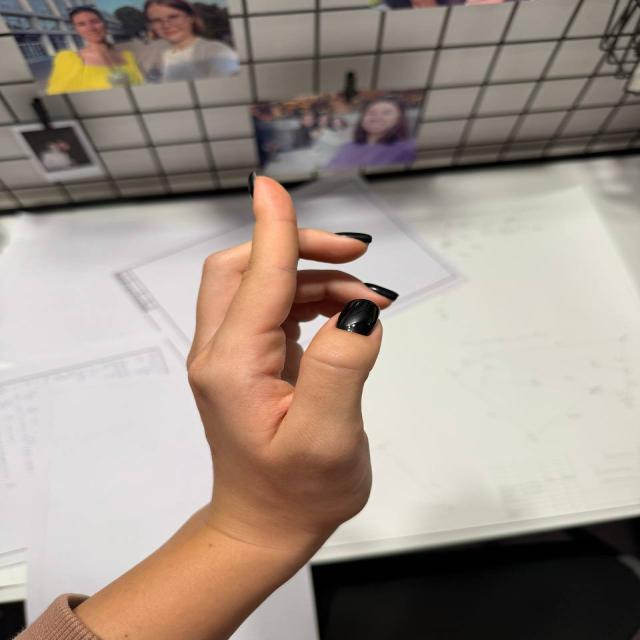b: (176, 163, 404, 492)
